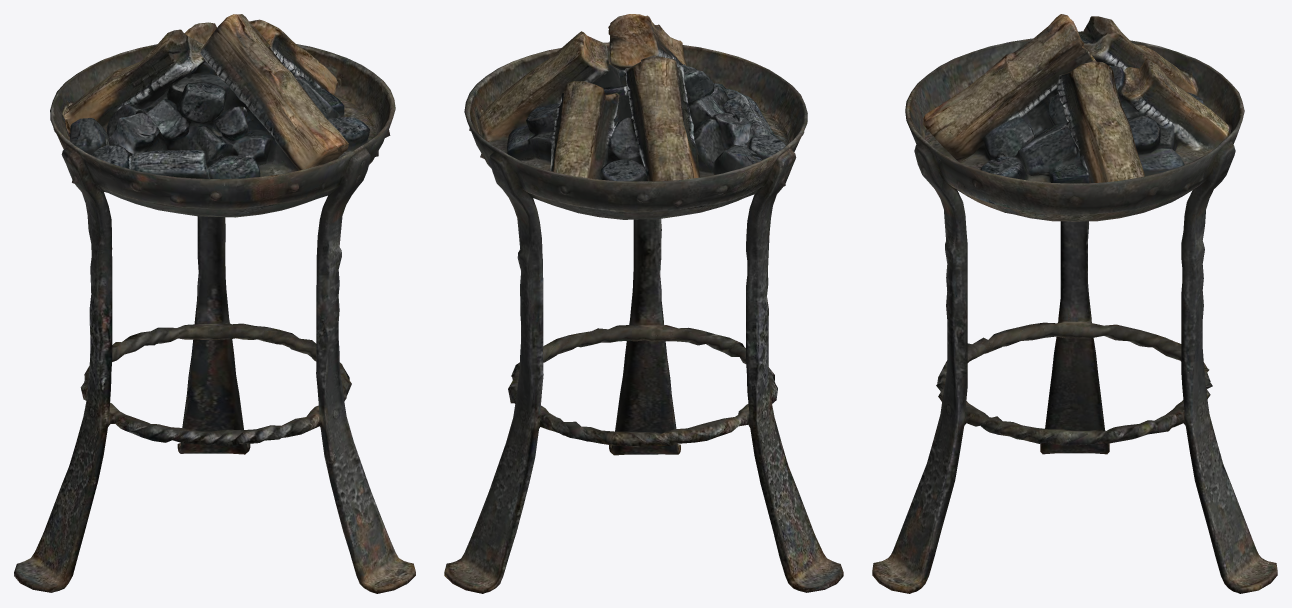
File: kit_brazier_hero.glb
The picture shows the model from 3 angles, left to right: view 1: azimuth 30°, elevation 25°; view 2: azimuth 150°, elevation 25°; view 3: azimuth 270°, elevation 25°; orthographic projection.
Parts seen in each view (by area): view 1: kit_brazier_hero; view 2: kit_brazier_hero; view 3: kit_brazier_hero.
Boxes of the visible parts, <box> form: kit_brazier_hero: <box>14,14,415,593</box>; kit_brazier_hero: <box>444,14,843,593</box>; kit_brazier_hero: <box>872,14,1277,593</box>.
Bounding box in the file's own units: 0.5683 × 0.8 × 0.5589.
Materials: 1 (1 with a texture image).
